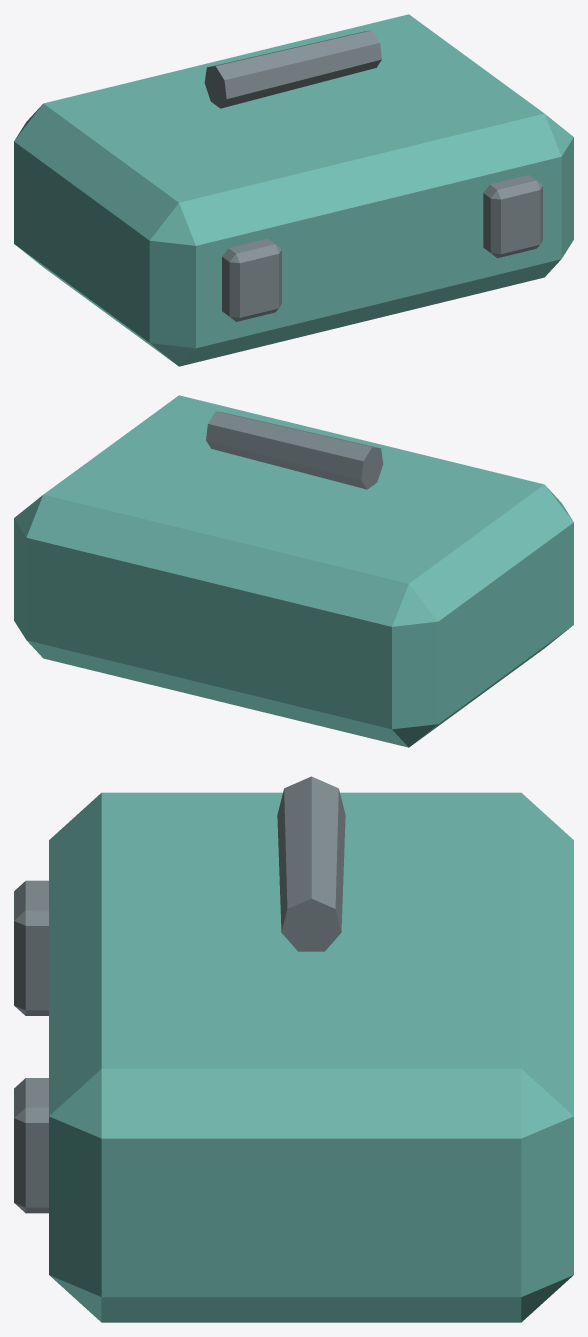
The model's file is CC_SurgeryKit.fbx.
3 views of the same model, one above another, from view 1: azimuth 30°, elevation 25°; view 2: azimuth 150°, elevation 25°; view 3: azimuth 270°, elevation 25° (orthographic). The views are drawn at different scales.
Parts seen in each view (by area): view 1: Case, Handle.003, Latch.001, Latch; view 2: Case, Handle.003; view 3: Case, Handle.003, Latch.001, Latch.
Part boxes in pixels (x1,y1,x2,y2): Case: (14, 14, 573, 366); Handle.003: (204, 30, 381, 108); Latch.001: (483, 175, 542, 258); Latch: (222, 238, 281, 321); Case: (14, 395, 573, 747); Handle.003: (206, 411, 383, 489); Case: (49, 792, 573, 1322); Handle.003: (277, 776, 345, 951); Latch.001: (14, 1078, 48, 1213); Latch: (14, 880, 48, 1015).
Size of the model in its own units: 0.65 by 0.33 by 0.48.
